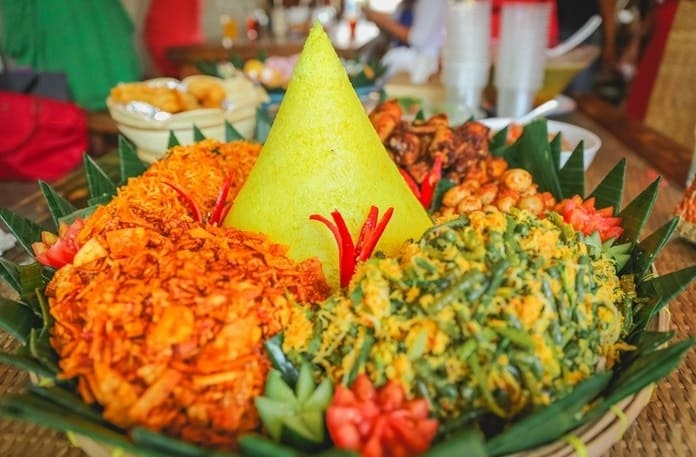nasi_tumpeng: (44, 21, 612, 426)
